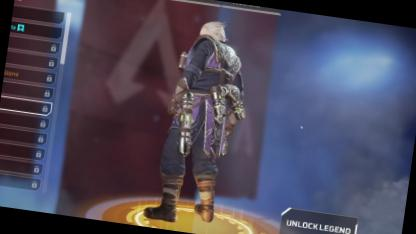Target: (160, 14, 256, 188)
